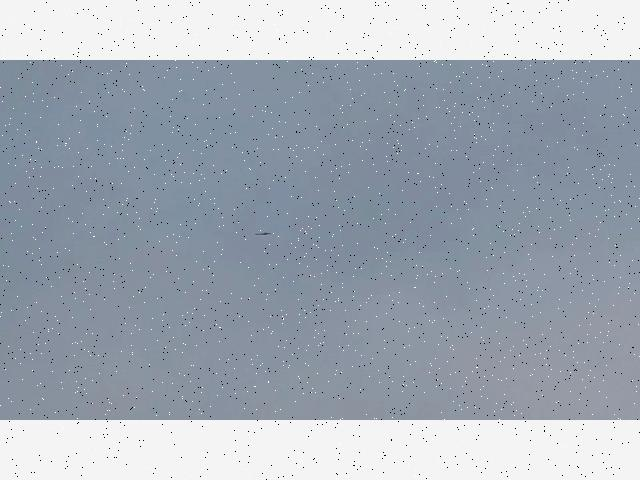Anti-Drone: (254, 232, 272, 236)
